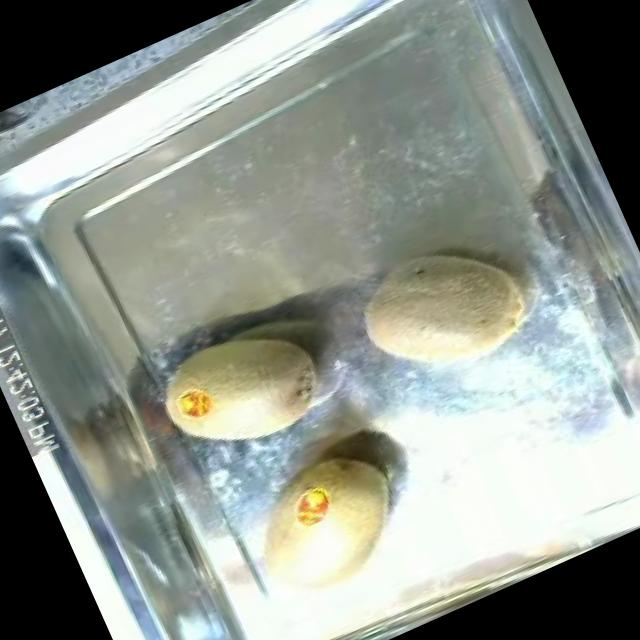Fruit: (334, 210, 554, 406), (218, 427, 430, 628), (140, 290, 348, 481)
